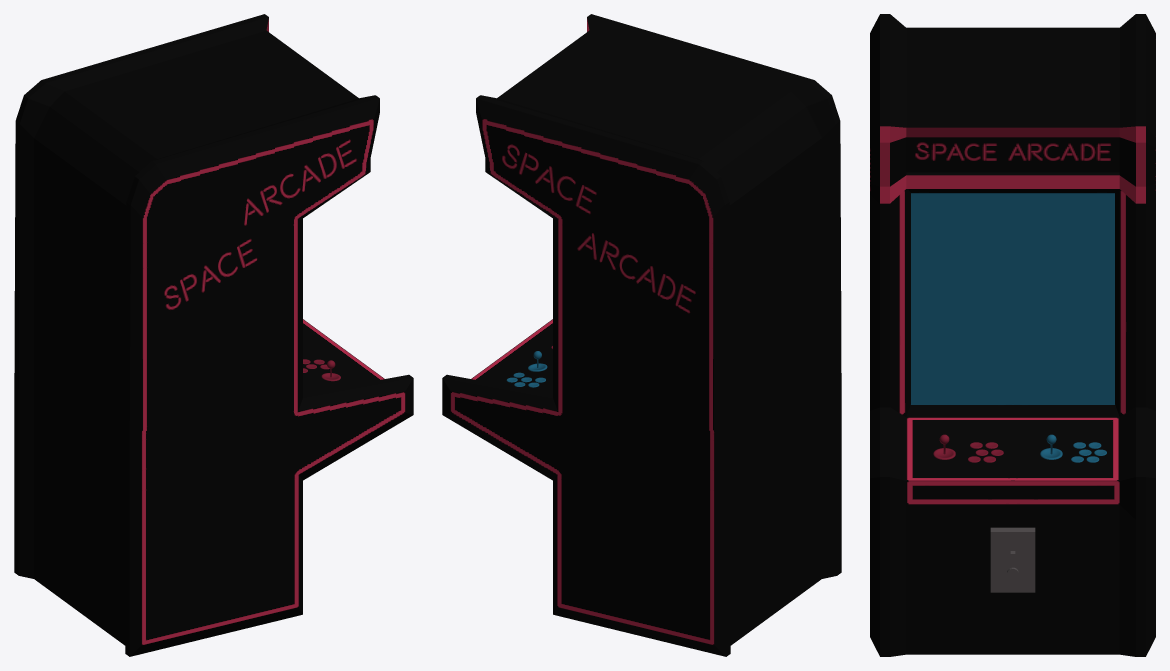
Rendered from ArcadeCabinet.fbx.
3 views of the same model, side by side, from view 1: azimuth 30°, elevation 25°; view 2: azimuth 150°, elevation 25°; view 3: azimuth 270°, elevation 25° (orthographic). The views are drawn at different scales.
Visible parts, largest first — view 1: Cube.003; view 2: Cube.003; view 3: Cube.003.
Part boxes in pixels (x1,y1,x2,y2): Cube.003: [14, 14, 413, 656]; Cube.003: [442, 14, 841, 656]; Cube.003: [870, 14, 1155, 656].
Size of the model in its own units: 354 by 593 by 268.
